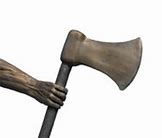axe: (35, 28, 144, 138)
